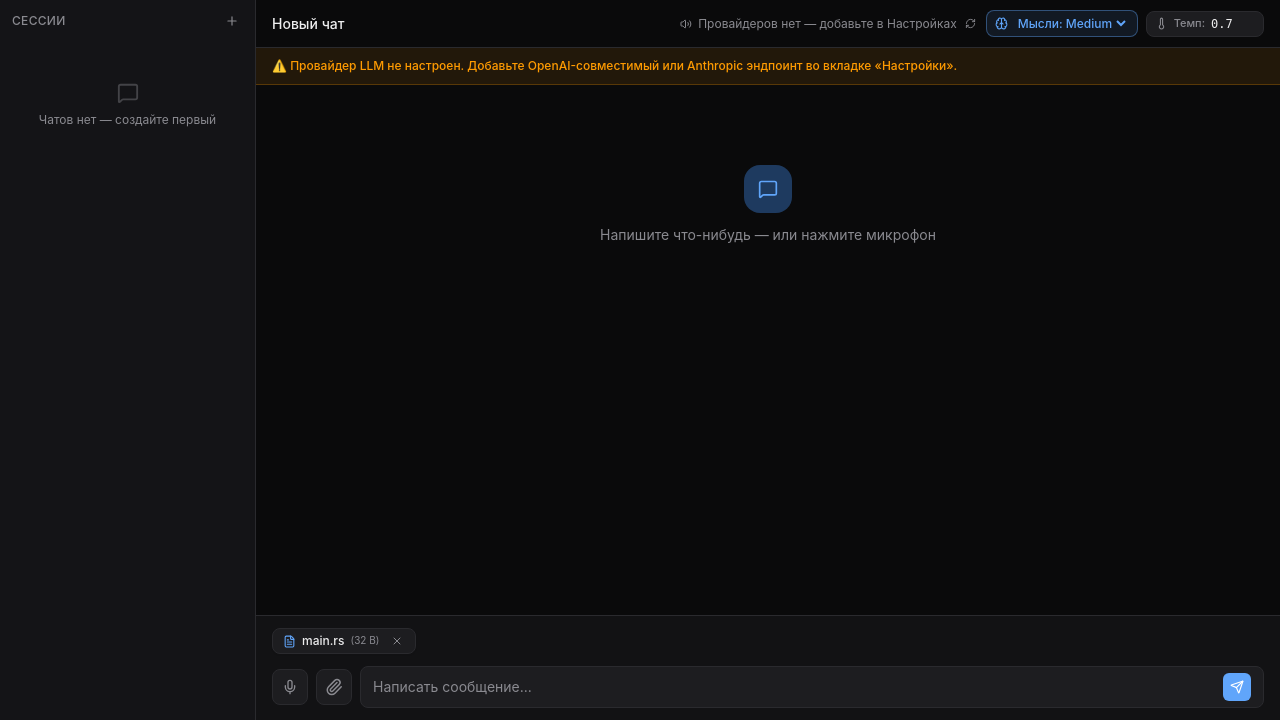
Test: ChatTab Attachments and Drag & Drop › allows attaching files via file picker, displays preview badges, and removes them
The width and height of the screenshot is (1280, 720).
Earlier steps of the test are not shown.
expect the text "main.rs" is shown: met, box top-left (302, 633), bottom-right (344, 649)
Click the button named "Удалить main.rs" at (397, 641), box top-left (389, 633), bottom-right (405, 649)
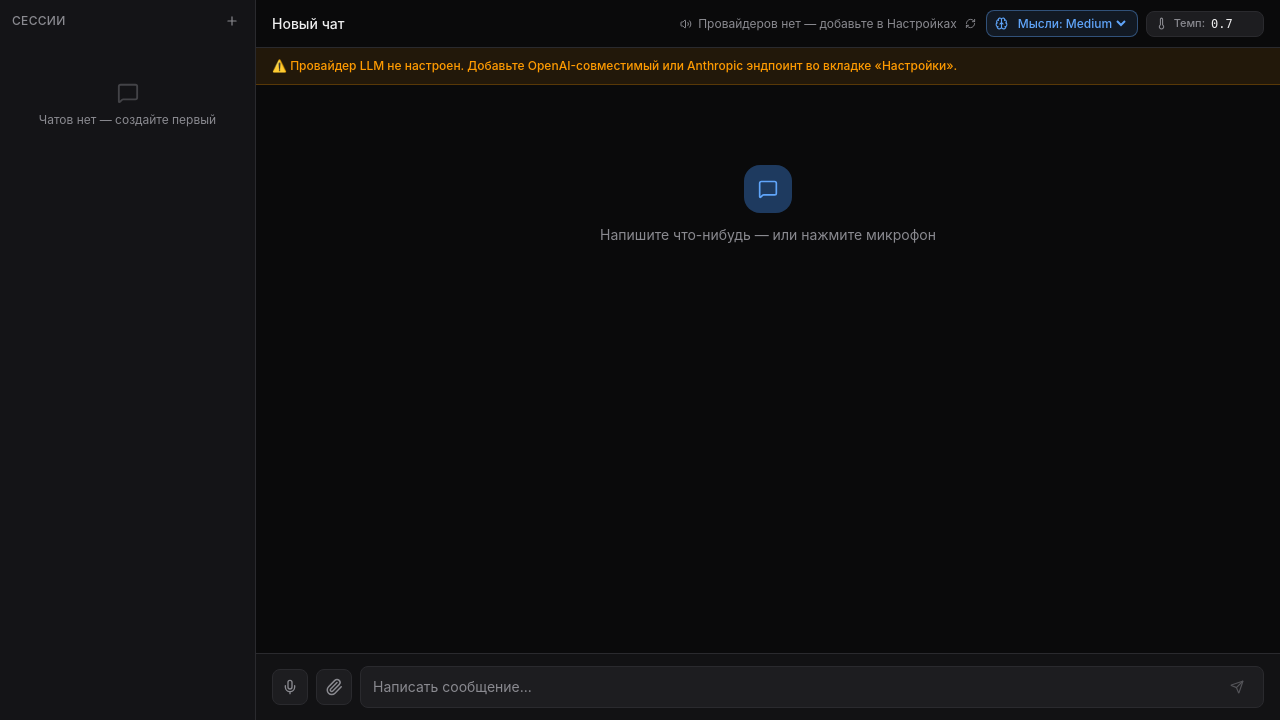
expect the element with test id "attachments-preview" is gone: met
